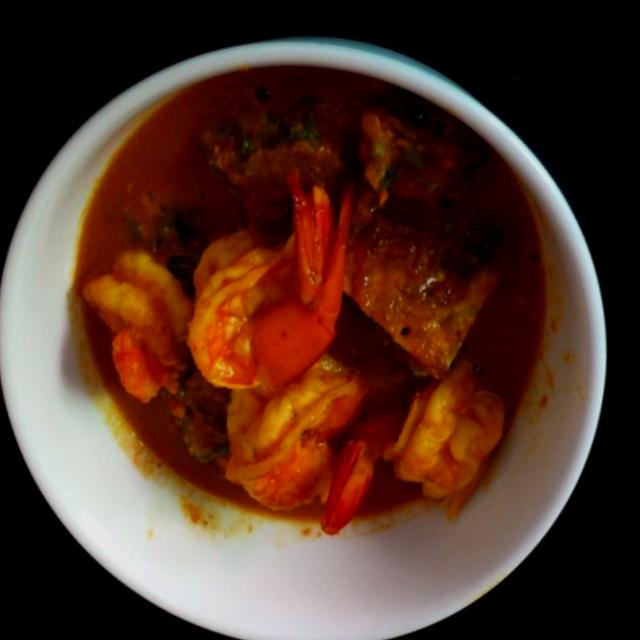汤锅炖物: (24, 15, 581, 591)
